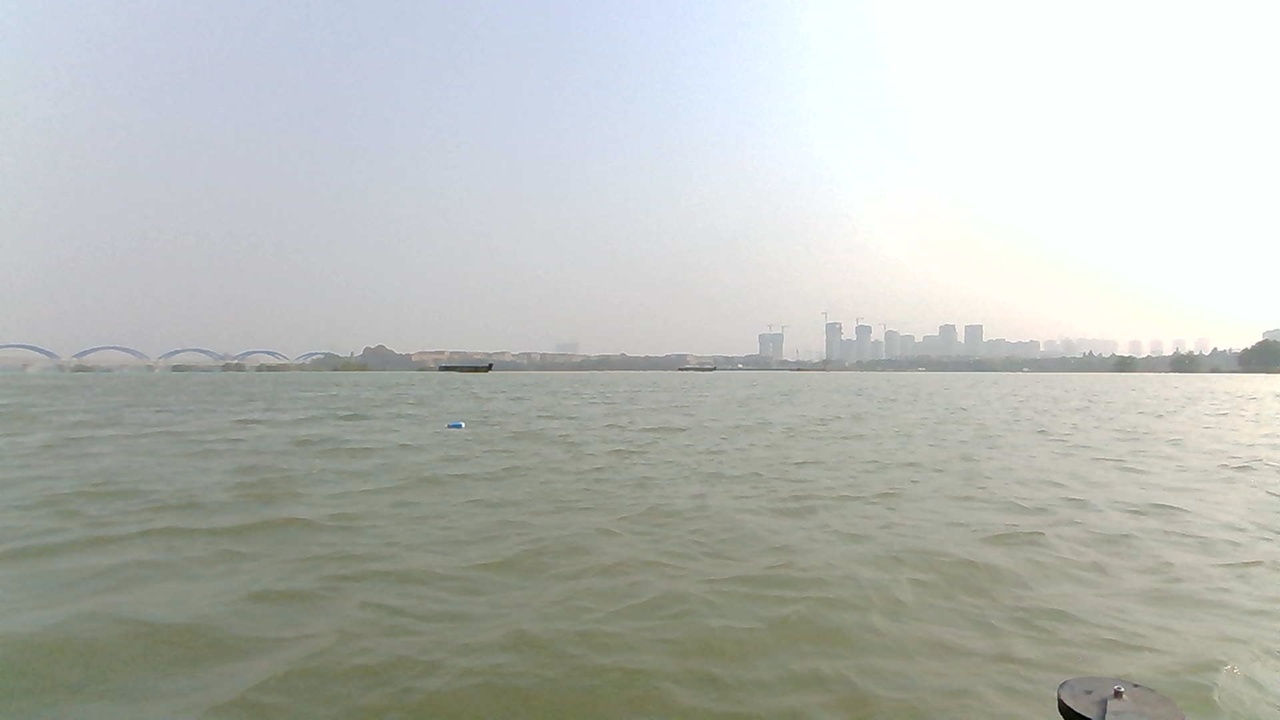bottle: (442, 419, 471, 433)
